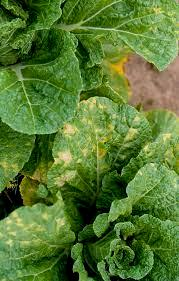Bok-Choy-Diseased: (40, 89, 147, 206), (8, 203, 80, 281)
